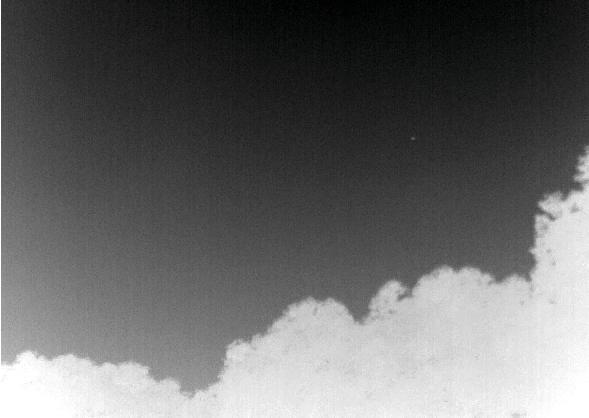dim target: (409, 136, 417, 141)
